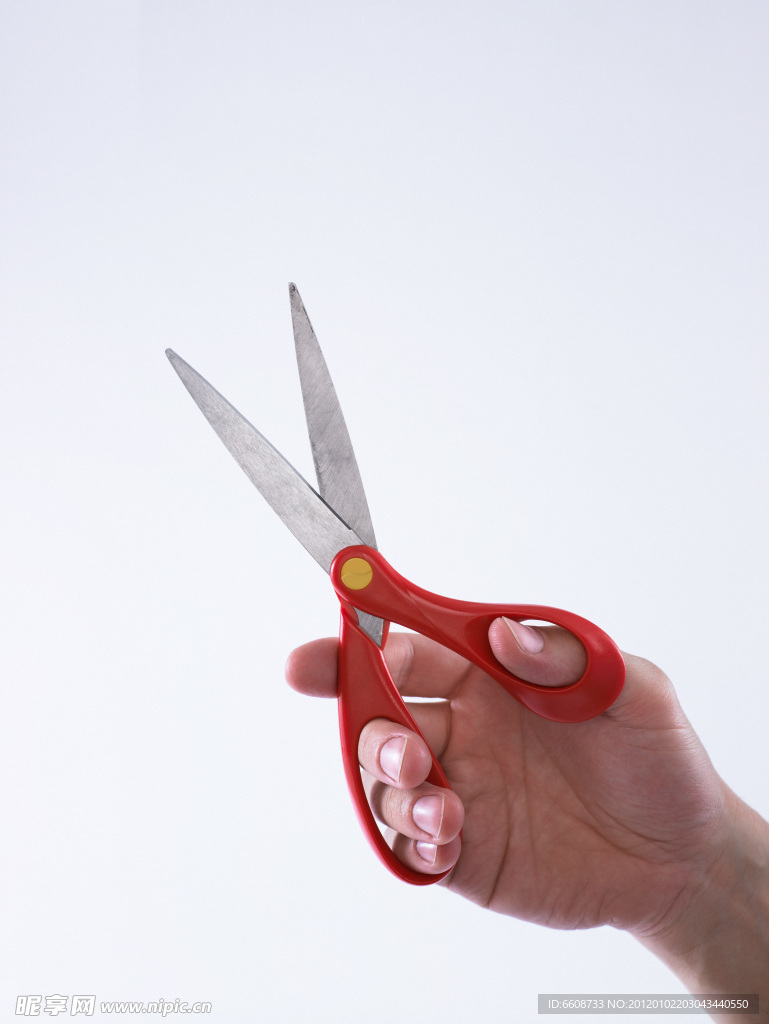scissors: (125, 275, 656, 908)
